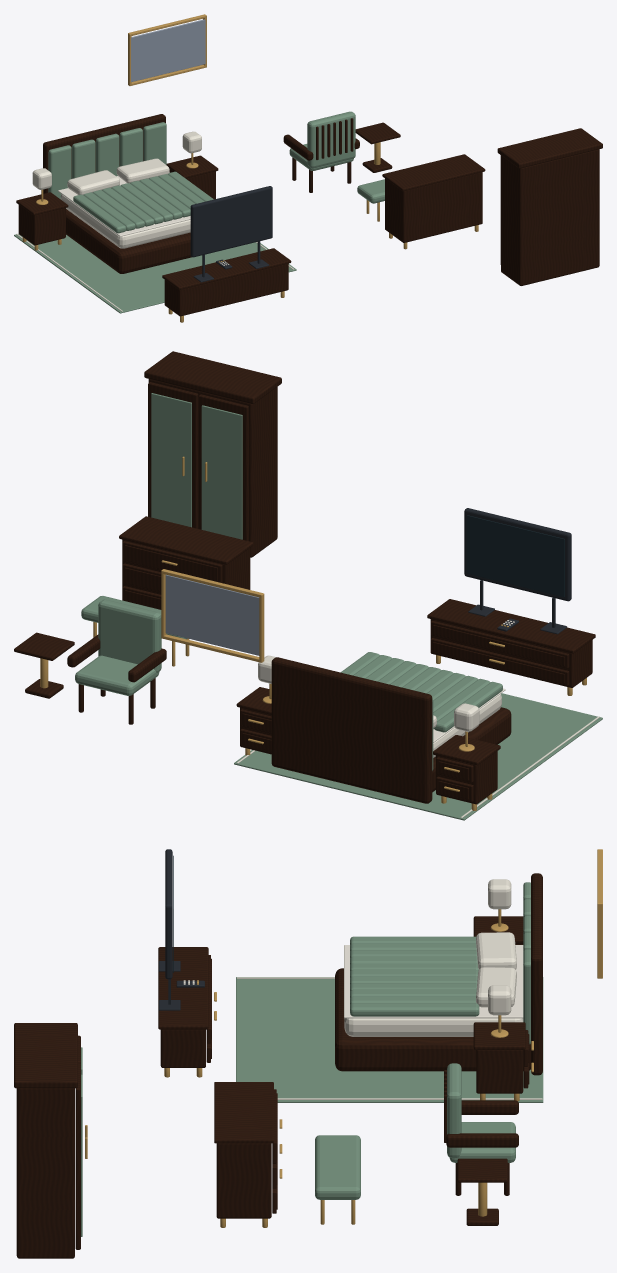
File: room-06.glb
3 renders of one model, top to bottom at view 1: azimuth 30°, elevation 25°; view 2: azimuth 150°, elevation 25°; view 3: azimuth 270°, elevation 25°, orthographic. The views are drawn at different scales.
Visible parts, largest first — view 1: WARDROBE | closed carcass, RUG | bound wool, DRESSER | closed carcass, TV | solid chassis, ART | ECLIPSE PLACEHOLDER | canvas solid, TV CONSOLE | closed carcass, BED | upholstered platform, WARDROBE | crown, DRESSER | overhanging top, TV CONSOLE | overhanging top, CHAIR | shaped upholstered back, BED | sprung mattress (+23 smaller); view 2: BED | headboard frame, RUG | bound wool, TV | SCREEN, ART | ECLIPSE PLACEHOLDER | canvas solid, WARDROBE | recessed door panel, WARDROBE | recessed door panel.001, WARDROBE | closed carcass, WARDROBE | crown, CHAIR | shaped upholstered back, TV CONSOLE | overhanging top, DRESSER | overhanging top, WARDROBE | framed door (+19 smaller); view 3: RUG | bound wool, WARDROBE | closed carcass, BED | upholstered platform, DRESSER | closed carcass, WARDROBE | crown, DRESSER | overhanging top, TV CONSOLE | overhanging top, LUGGAGE | upholstered bench, BED | sprung mattress, BED | headboard frame, BEDSIDE R | closed carcass, BED | quilt channel 10 (+26 smaller).
Part boxes in pixels (left/top/right/bottom): WARDROBE | closed carcass: left=501, top=149, right=599, bottom=285; RUG | bound wool: left=14, top=233, right=296, bottom=313; DRESSER | closed carcass: left=385, top=172, right=482, bottom=242; TV | solid chassis: left=190, top=186, right=272, bottom=257; ART | ECLIPSE PLACEHOLDER | canvas solid: left=131, top=19, right=205, bottom=81; TV CONSOLE | closed carcass: left=164, top=263, right=288, bottom=316; BED | upholstered platform: left=66, top=209, right=191, bottom=273; WARDROBE | crown: left=497, top=128, right=602, bottom=168; DRESSER | overhanging top: left=382, top=154, right=485, bottom=191; TV CONSOLE | overhanging top: left=162, top=248, right=291, bottom=289; CHAIR | shaped upholstered back: left=307, top=111, right=355, bottom=168; BED | sprung mattress: left=60, top=194, right=190, bottom=248; BED | headboard frame: left=271, top=657, right=432, bottom=803; RUG | bound wool: left=234, top=693, right=602, bottom=820; TV | SCREEN: left=466, top=515, right=564, bottom=597; ART | ECLIPSE PLACEHOLDER | canvas solid: left=165, top=574, right=259, bottom=655; WARDROBE | recessed door panel: left=201, top=405, right=242, bottom=539; WARDROBE | recessed door panel.001: left=151, top=393, right=191, bottom=527; WARDROBE | closed carcass: left=148, top=379, right=277, bottom=557; WARDROBE | crown: left=144, top=351, right=281, bottom=403; CHAIR | shaped upholstered back: left=98, top=599, right=161, bottom=672; TV CONSOLE | overhanging top: left=427, top=599, right=595, bottom=653; DRESSER | overhanging top: left=119, top=516, right=253, bottom=564; WARDROBE | framed door: left=198, top=394, right=248, bottom=541; RUG | bound wool: left=236, top=977, right=543, bottom=1102; WARDROBE | closed carcass: left=16, top=1088, right=74, bottom=1258; BED | upholstered platform: left=335, top=968, right=530, bottom=1071; DRESSER | closed carcass: left=216, top=1143, right=271, bottom=1218; WARDROBE | crown: left=14, top=1023, right=77, bottom=1088; DRESSER | overhanging top: left=214, top=1082, right=273, bottom=1143; TV CONSOLE | overhanging top: left=158, top=947, right=208, bottom=1029; LUGGAGE | upholstered bench: left=315, top=1135, right=360, bottom=1199; BED | sprung mattress: left=344, top=1018, right=523, bottom=1036; BED | headboard frame: left=531, top=873, right=542, bottom=1075; BEDSIDE R | closed carcass: left=476, top=1050, right=523, bottom=1093; BED | quilt channel 10: left=350, top=1003, right=479, bottom=1016.
Bounding box in the file's own units: 8.48 × 3.07 × 7.28.
8 materials, 1 textured.
